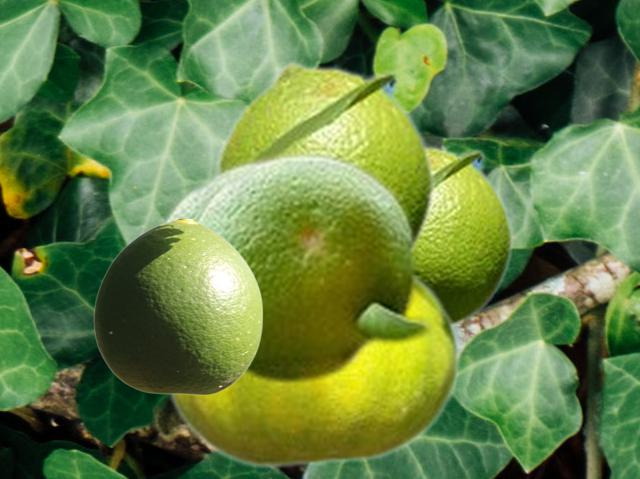dalandan: (190, 147, 434, 384), (164, 275, 459, 469), (208, 60, 436, 248), (93, 219, 262, 394), (420, 141, 514, 329), (155, 154, 267, 225)
